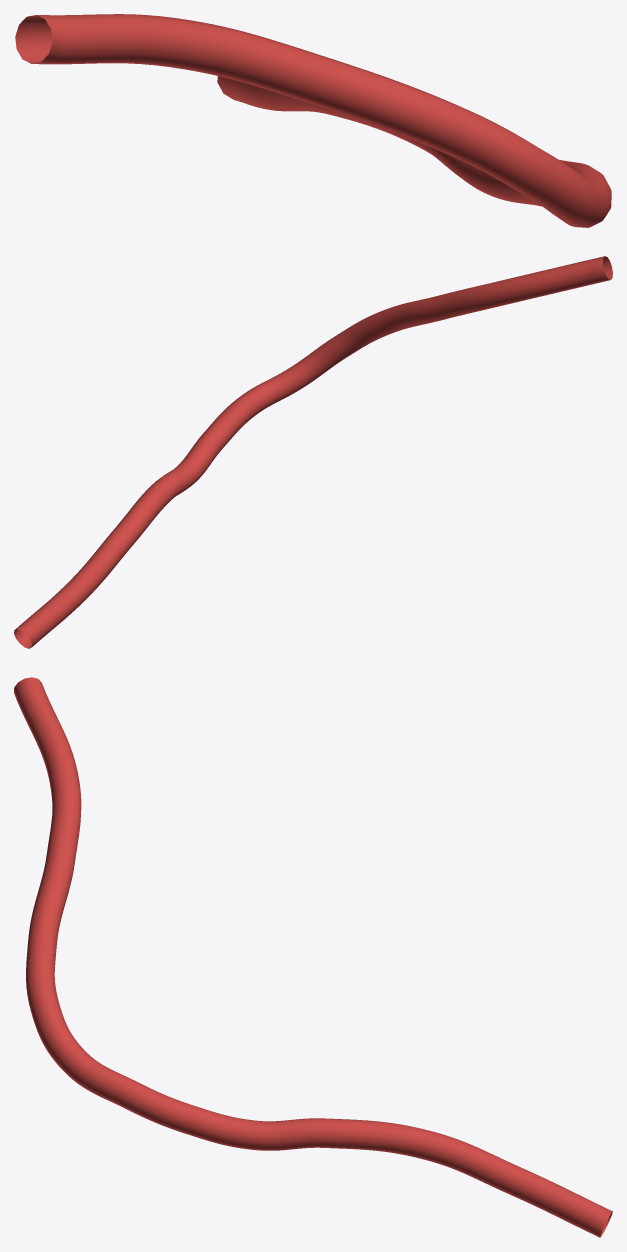
3 renders of one model, top to bottom at view 1: azimuth 30°, elevation 25°; view 2: azimuth 150°, elevation 25°; view 3: azimuth 270°, elevation 25°, orthographic. The views are drawn at different scales.
Parts seen in each view (by area): view 1: 右侧腭降动脉; view 2: 右侧腭降动脉; view 3: 右侧腭降动脉.
Boxes of the visible parts, <box> form: 右侧腭降动脉: <box>15,14,611,227</box>; 右侧腭降动脉: <box>14,256,612,648</box>; 右侧腭降动脉: <box>14,677,612,1237</box>.
Size of the model in its own units: 0.0247 by 0.0197 by 0.0297.
